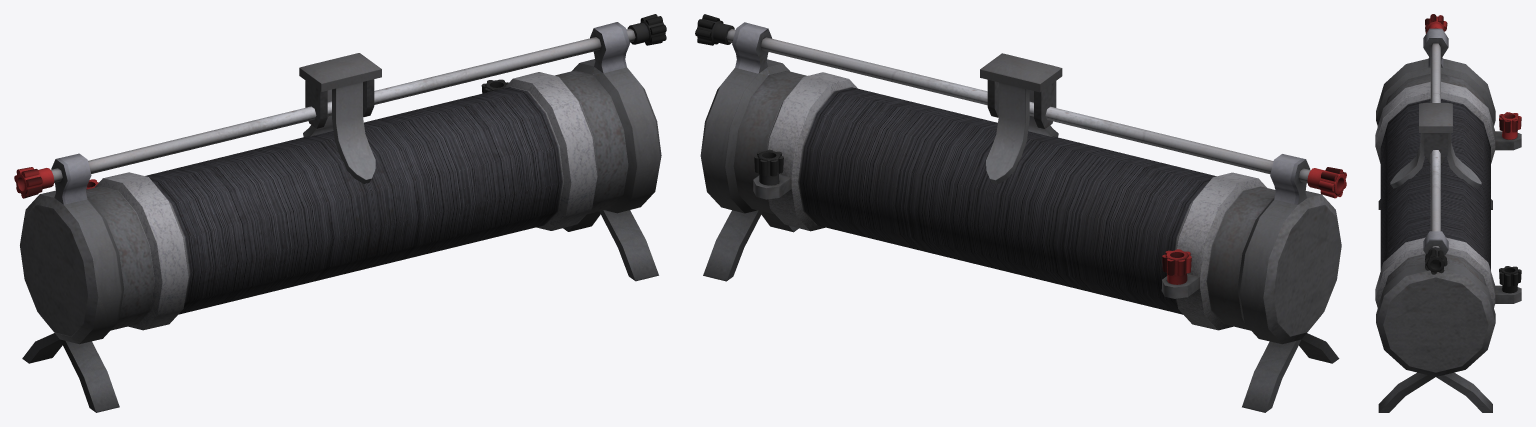
The model's file is wl_dx_hdbzq.fbx.
3 renders of one model, left to right at view 1: azimuth 30°, elevation 25°; view 2: azimuth 150°, elevation 25°; view 3: azimuth 270°, elevation 25°, orthographic. The views are drawn at different scales.
Parts seen in each view (by area): view 1: wl_dx_hdbzq_dz, wl_dx_hdbzq_huakua; view 2: wl_dx_hdbzq_dz, wl_dx_hdbzq_huakua; view 3: wl_dx_hdbzq_dz, wl_dx_hdbzq_huakua.
Boxes of the visible parts, left/top/right/bottom form: wl_dx_hdbzq_dz: left=14, top=14, right=666, bottom=412; wl_dx_hdbzq_huakua: left=299, top=53, right=381, bottom=183; wl_dx_hdbzq_dz: left=695, top=14, right=1346, bottom=412; wl_dx_hdbzq_huakua: left=980, top=53, right=1062, bottom=184; wl_dx_hdbzq_dz: left=1375, top=14, right=1521, bottom=412; wl_dx_hdbzq_huakua: left=1390, top=103, right=1481, bottom=188.
Bounding box in the file's own units: 18.14 × 6.85 × 4.67.
Materials: 1 (1 with a texture image).
